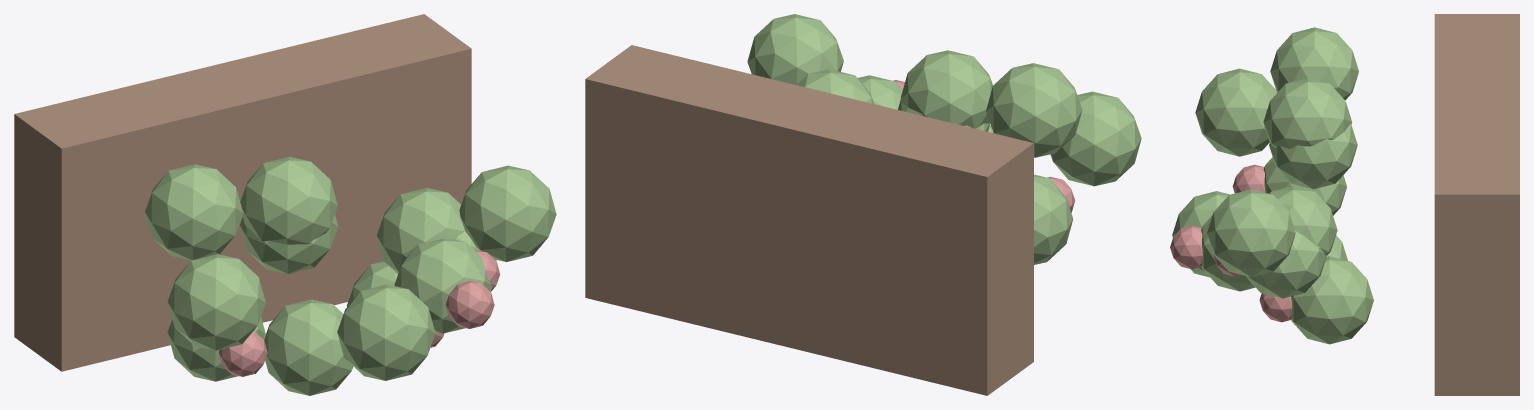
The model's file is flower_shrub.glb.
The picture shows the model from 3 angles, left to right: view 1: azimuth 30°, elevation 25°; view 2: azimuth 150°, elevation 25°; view 3: azimuth 270°, elevation 25°; orthographic projection. The views are drawn at different scales.
Parts seen in each view (by area): view 1: wood, leaf2, salmon; view 2: wood, leaf2; view 3: leaf2, wood, salmon.
Boxes of the visible parts, x1,y1,x2,y2 form: wood: (14, 14, 471, 371); leaf2: (145, 156, 556, 395); salmon: (219, 250, 500, 376); wood: (585, 45, 1033, 395); leaf2: (747, 14, 1141, 264); leaf2: (1172, 27, 1373, 344); wood: (1434, 14, 1519, 395); salmon: (1170, 164, 1292, 322).
Size of the model in its own units: 2.5 by 1.44 by 2.05.
